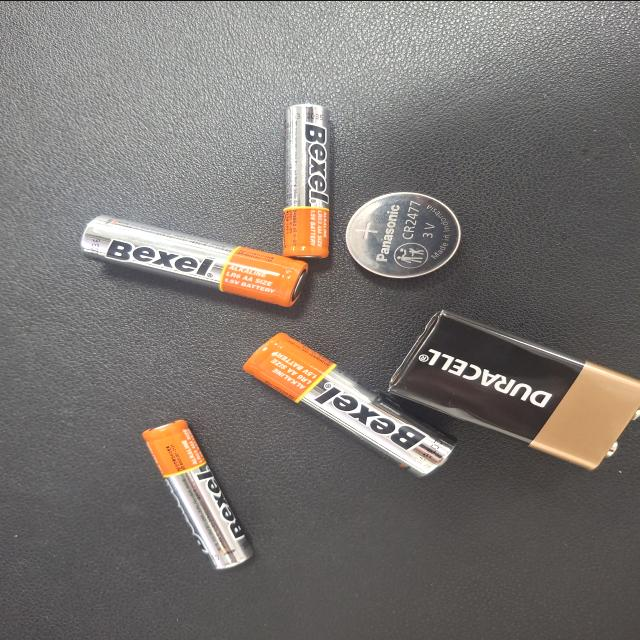9V: (0, 172, 251, 331)
AA: (186, 164, 396, 308), (332, 334, 558, 426)
AAA: (388, 72, 498, 221), (310, 383, 358, 537)
COIN: (180, 364, 294, 448)
